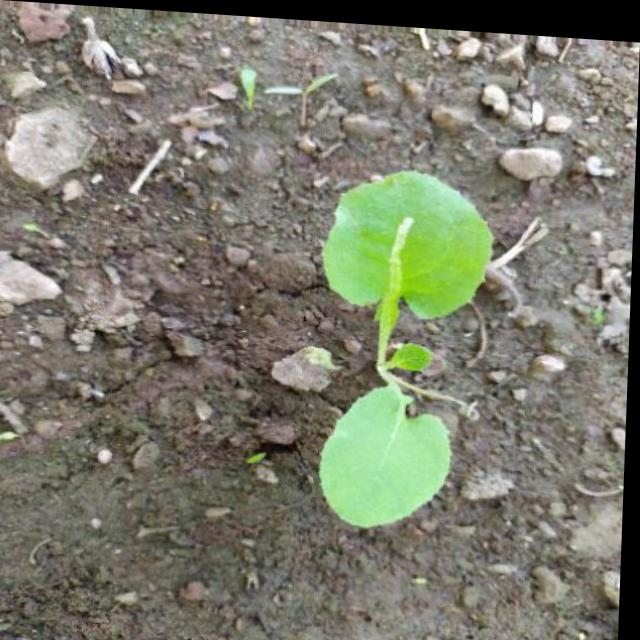weed: (314, 148, 501, 546)
